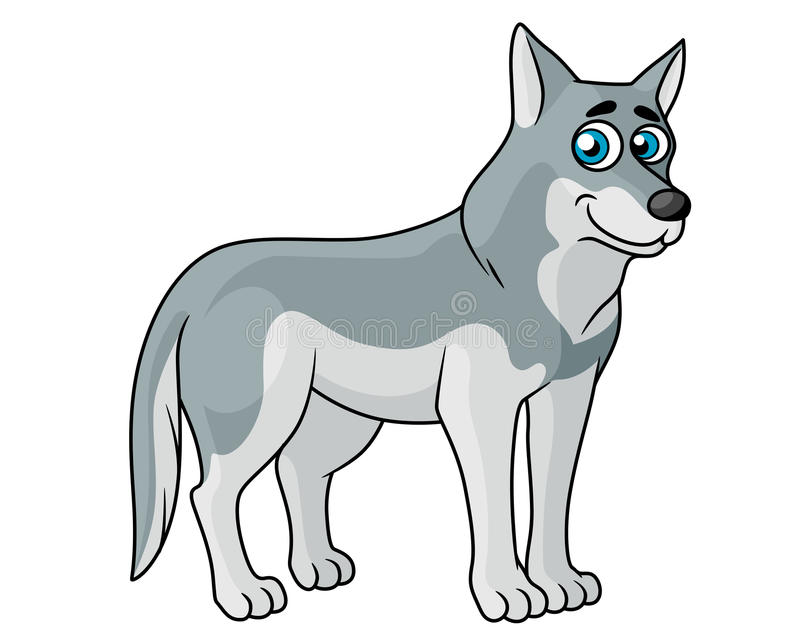Lobo: (127, 7, 717, 618)
